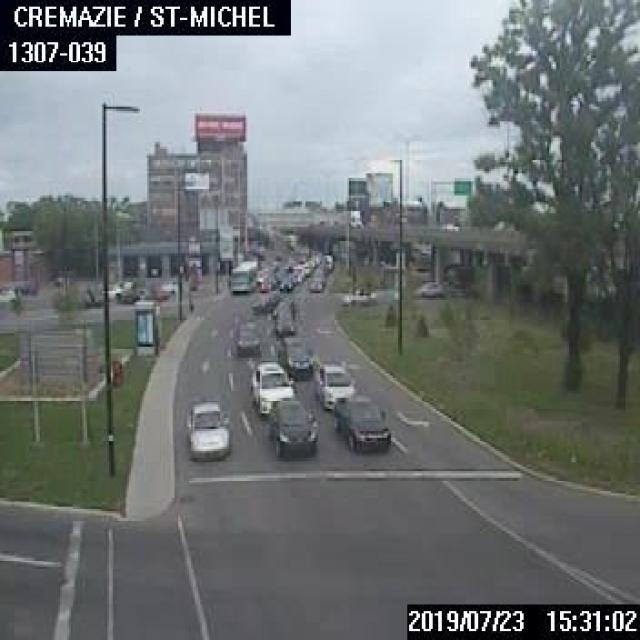bus: (228, 257, 256, 292)
vehicle: (332, 392, 390, 451), (265, 397, 317, 457), (185, 398, 229, 460), (249, 358, 294, 414), (312, 362, 355, 410), (277, 336, 312, 376), (234, 320, 261, 356), (250, 292, 279, 312), (274, 307, 294, 335), (340, 287, 376, 302), (416, 278, 446, 296), (272, 298, 293, 317), (307, 273, 321, 291), (0, 287, 15, 300), (278, 275, 291, 290), (260, 277, 272, 291), (256, 269, 266, 281)
